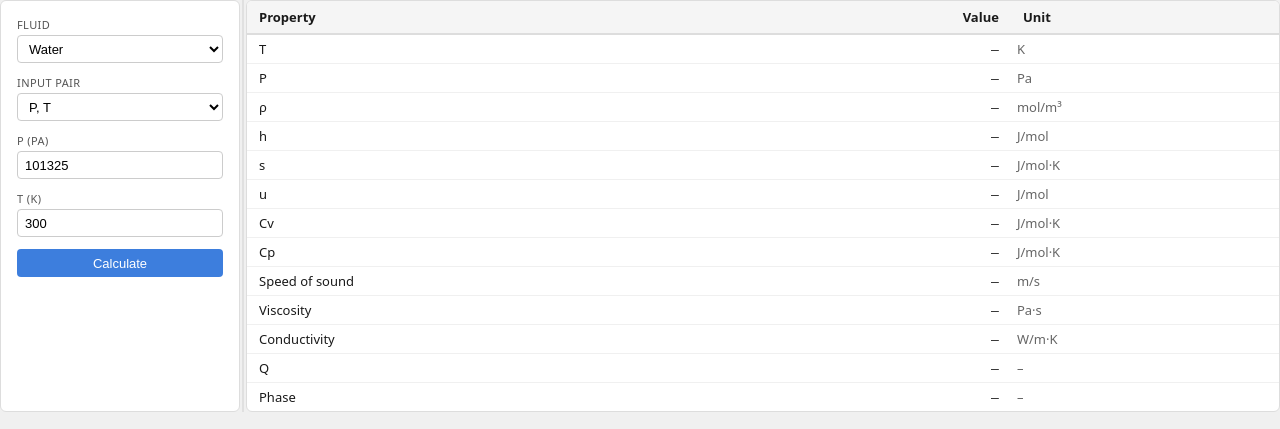
PropertyCalculator › flipping basis from mass→molar resets to molar defaults
This screenshot has width=1280, height=429.
Select "ρ, T" in the dropdown below "Input pair" at (120, 107), box [17,93,223,121]
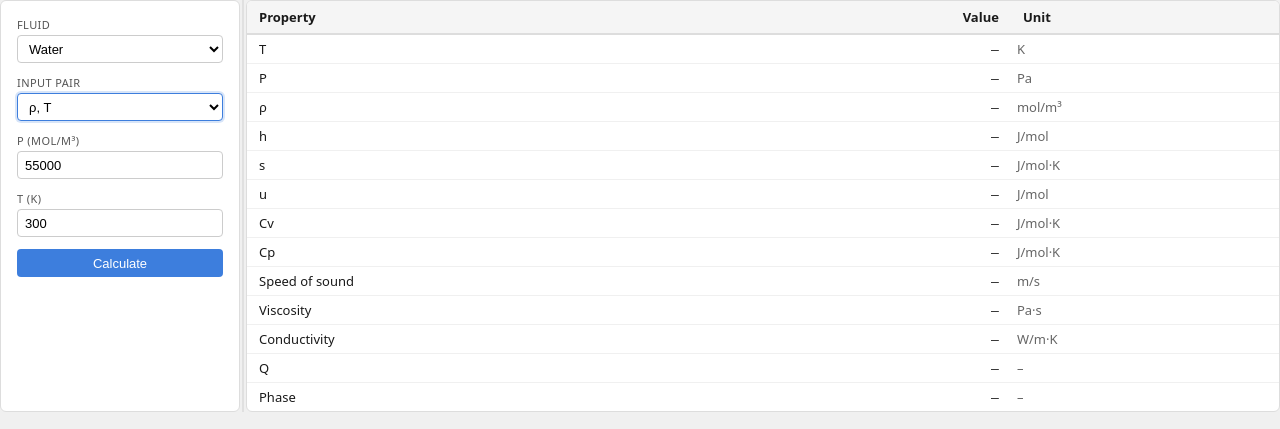
Now the number field below "ρ (mol/m³)" holds "55000", box [17,151,223,179]
